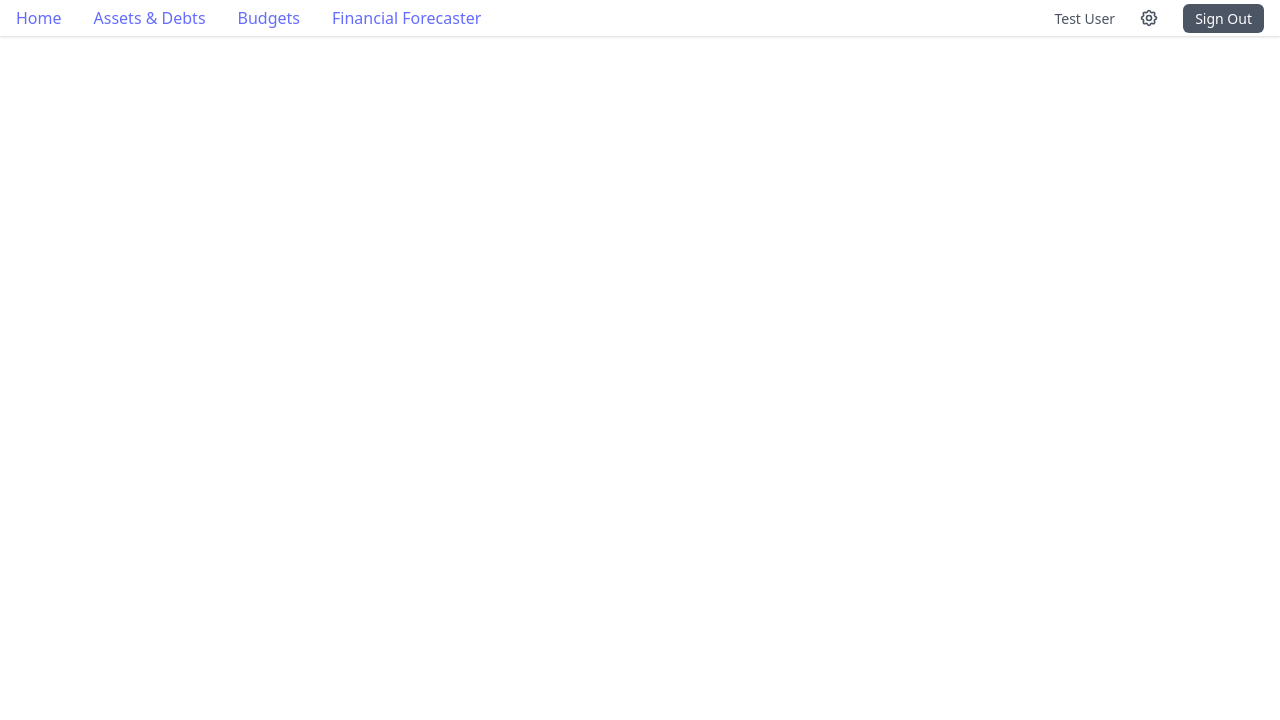
Test: Nav Component › fetches user data when settings modal opens
Click the button titled "Settings" at (1149, 18), box top-left (1131, 0), bottom-right (1167, 36)
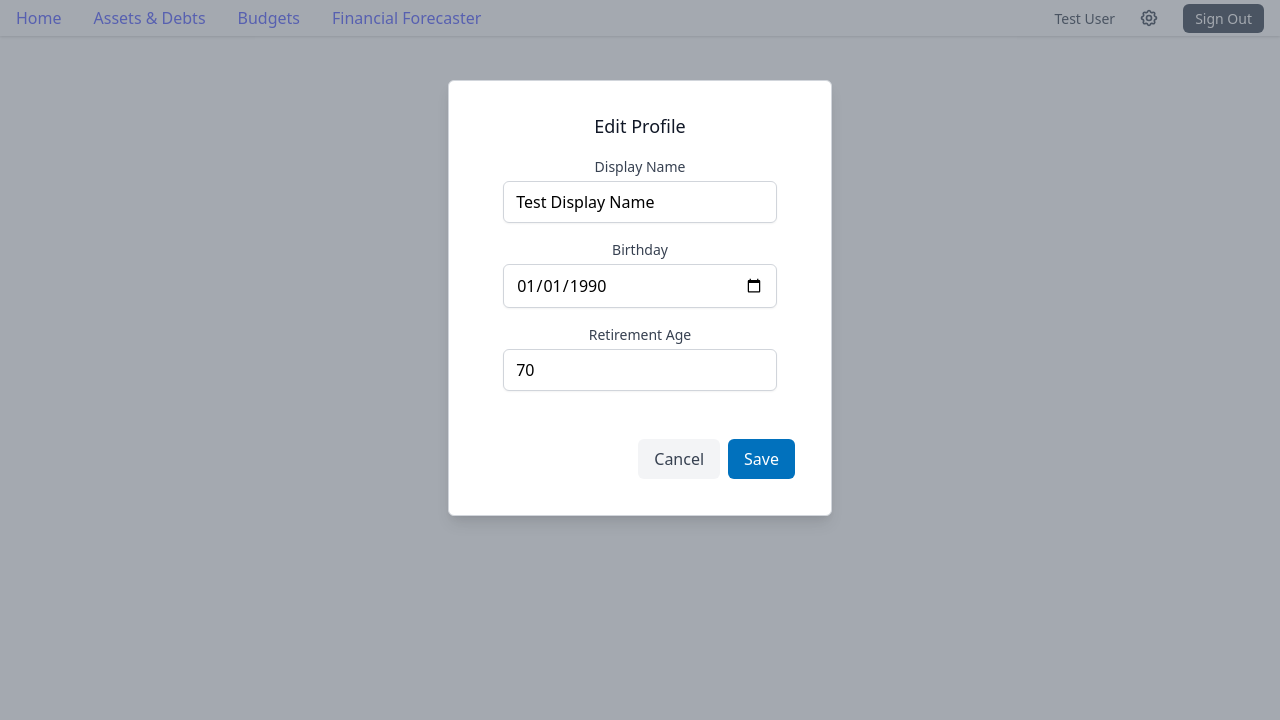
Result: the field showing "Test Display Name" is shown at top-left (503, 181), bottom-right (777, 223)
Result: the date field showing "1990-01-01" is shown at top-left (503, 264), bottom-right (777, 308)
Result: the number field showing "70" is shown at top-left (503, 349), bottom-right (777, 391)
